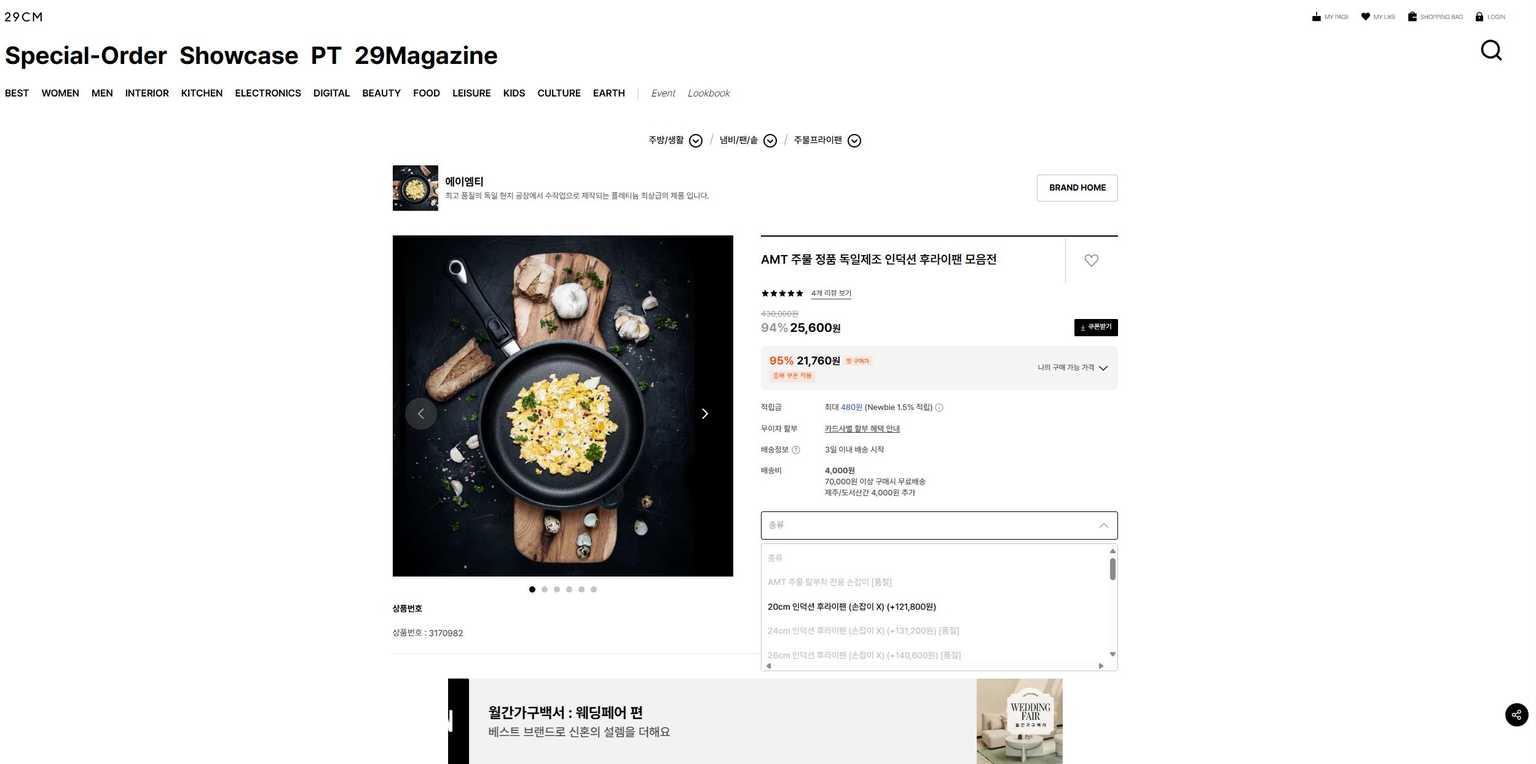button: (762, 545, 1109, 571), (768, 622, 1088, 644), (762, 576, 1104, 592), (760, 595, 1096, 610), (771, 650, 1096, 663), (230, 86, 300, 101), (1408, 8, 1466, 24), (120, 88, 171, 104), (1485, 34, 1512, 62), (172, 85, 228, 98), (348, 85, 396, 100), (1306, 4, 1351, 20), (1362, 7, 1397, 26), (451, 87, 491, 102), (309, 85, 349, 99), (41, 86, 87, 98), (1477, 11, 1522, 22), (405, 86, 440, 100), (4, 81, 34, 96), (589, 85, 625, 97), (536, 88, 571, 100), (499, 88, 527, 98), (92, 86, 111, 98)
checkbox: (1039, 174, 1126, 203), (794, 132, 895, 151), (641, 134, 704, 149), (723, 136, 777, 150), (804, 284, 856, 297), (1074, 319, 1125, 332), (1079, 252, 1122, 262)
input_field: (758, 509, 1116, 541), (1032, 359, 1109, 378)
popup: (444, 680, 1060, 764)
